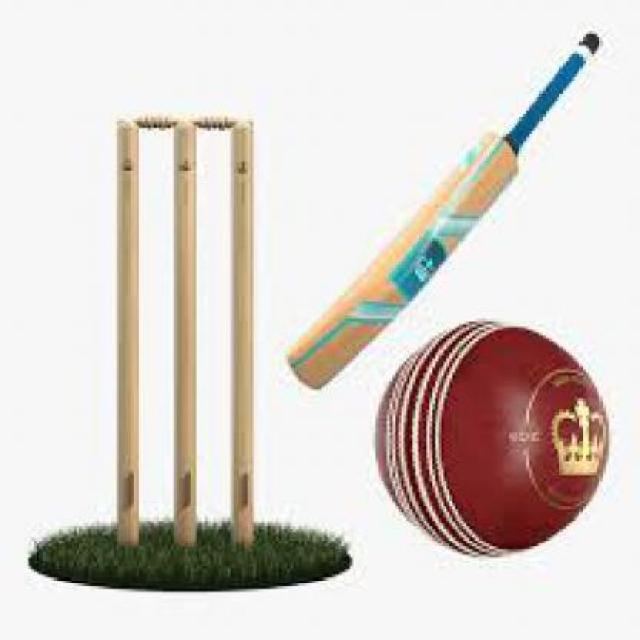ball: (360, 303, 635, 575)
